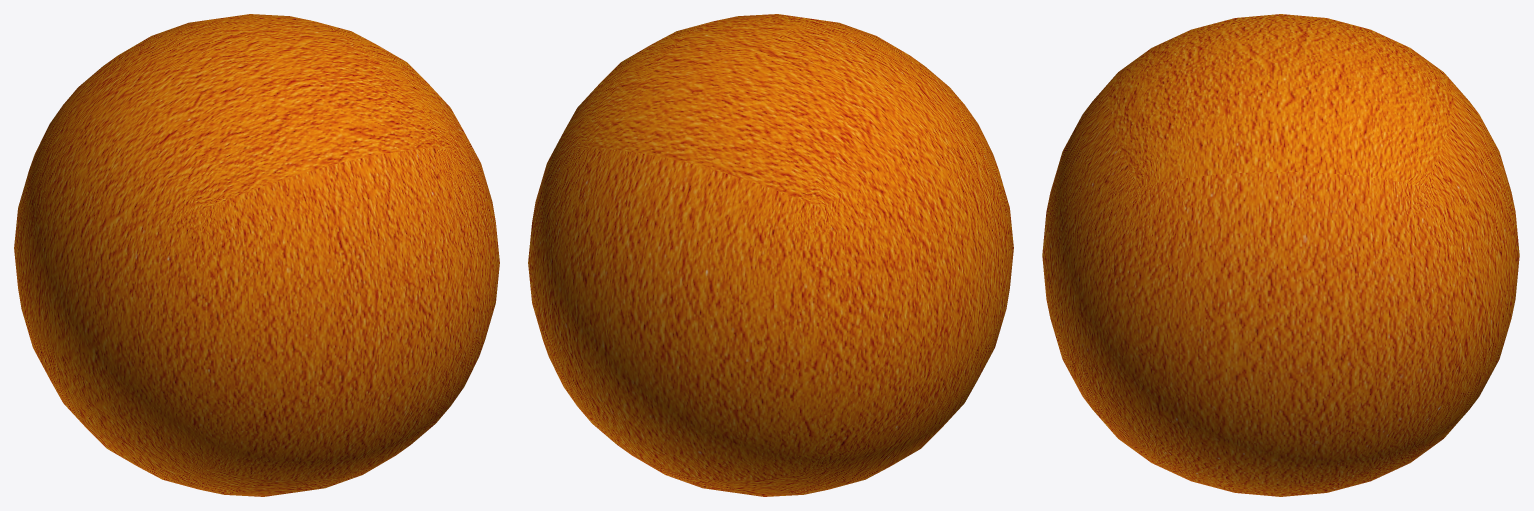
File: orange_left_bottom.obj
3 views of the same model, side by side, from view 1: azimuth 30°, elevation 25°; view 2: azimuth 150°, elevation 25°; view 3: azimuth 270°, elevation 25° (orthographic).
Visible parts, largest first — view 1: left-bottom; view 2: left-bottom; view 3: left-bottom.
Boxes of the visible parts, x1,y1,x2,y2 form: left-bottom: [14, 14, 499, 496]; left-bottom: [528, 14, 1013, 496]; left-bottom: [1042, 14, 1519, 496].
Bounding box in the file's own units: 0.07 × 0.07 × 0.07.
1 material, 1 textured.
